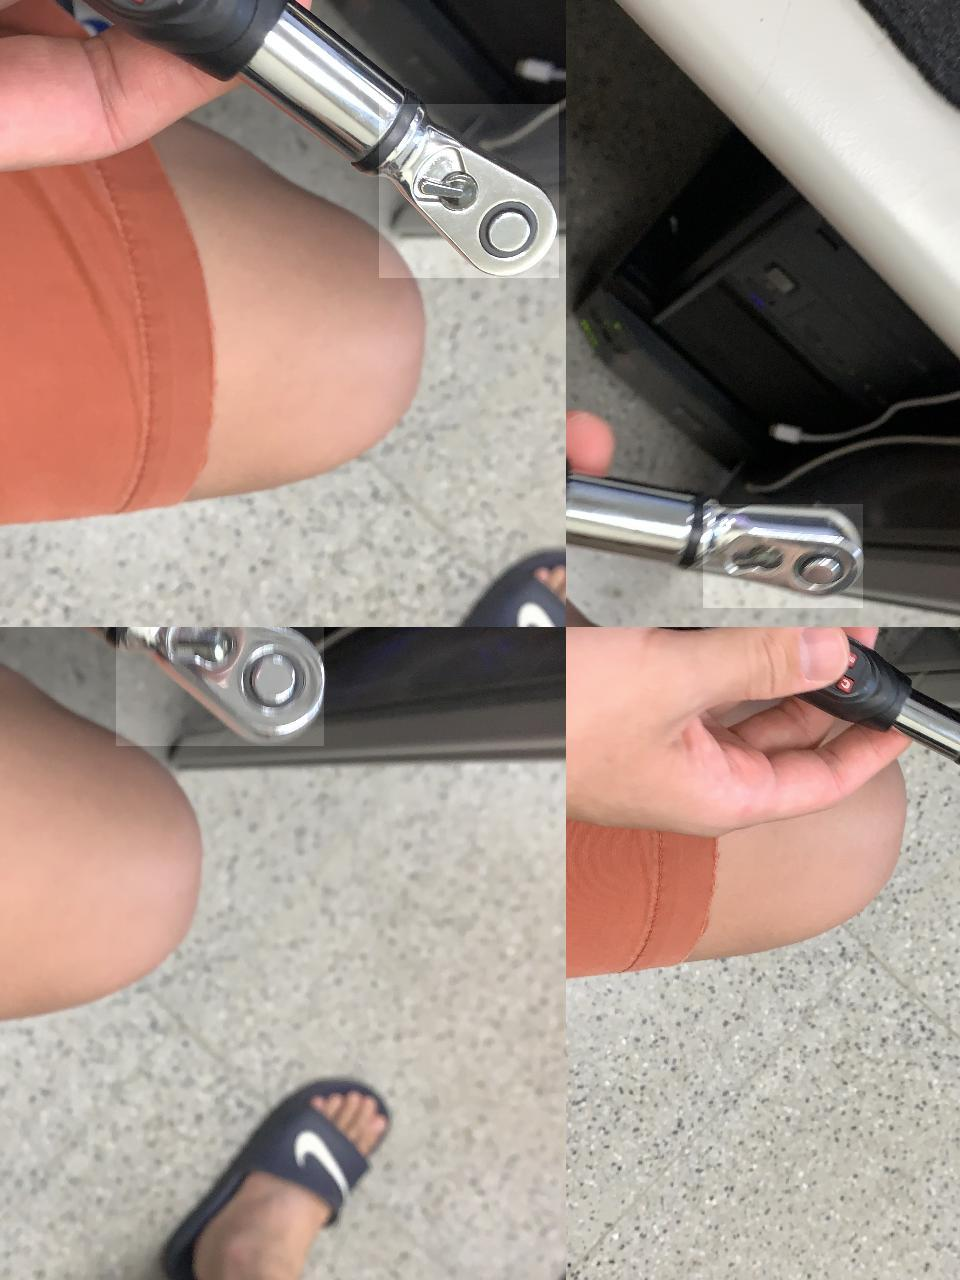Tool: (378, 103, 558, 277), (114, 627, 323, 745), (702, 503, 862, 607)
